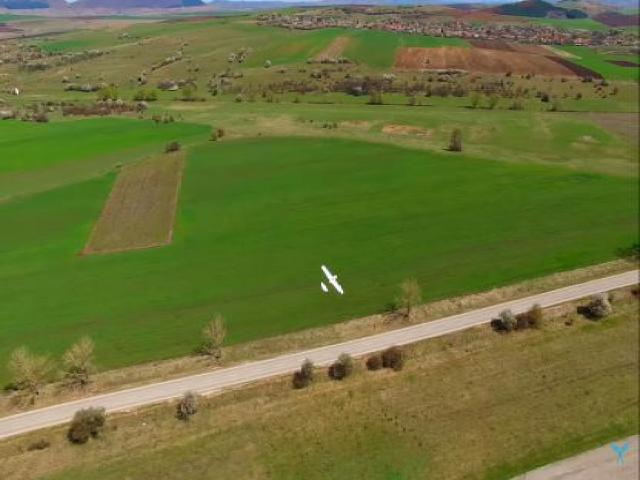uav: (312, 256, 348, 298)
